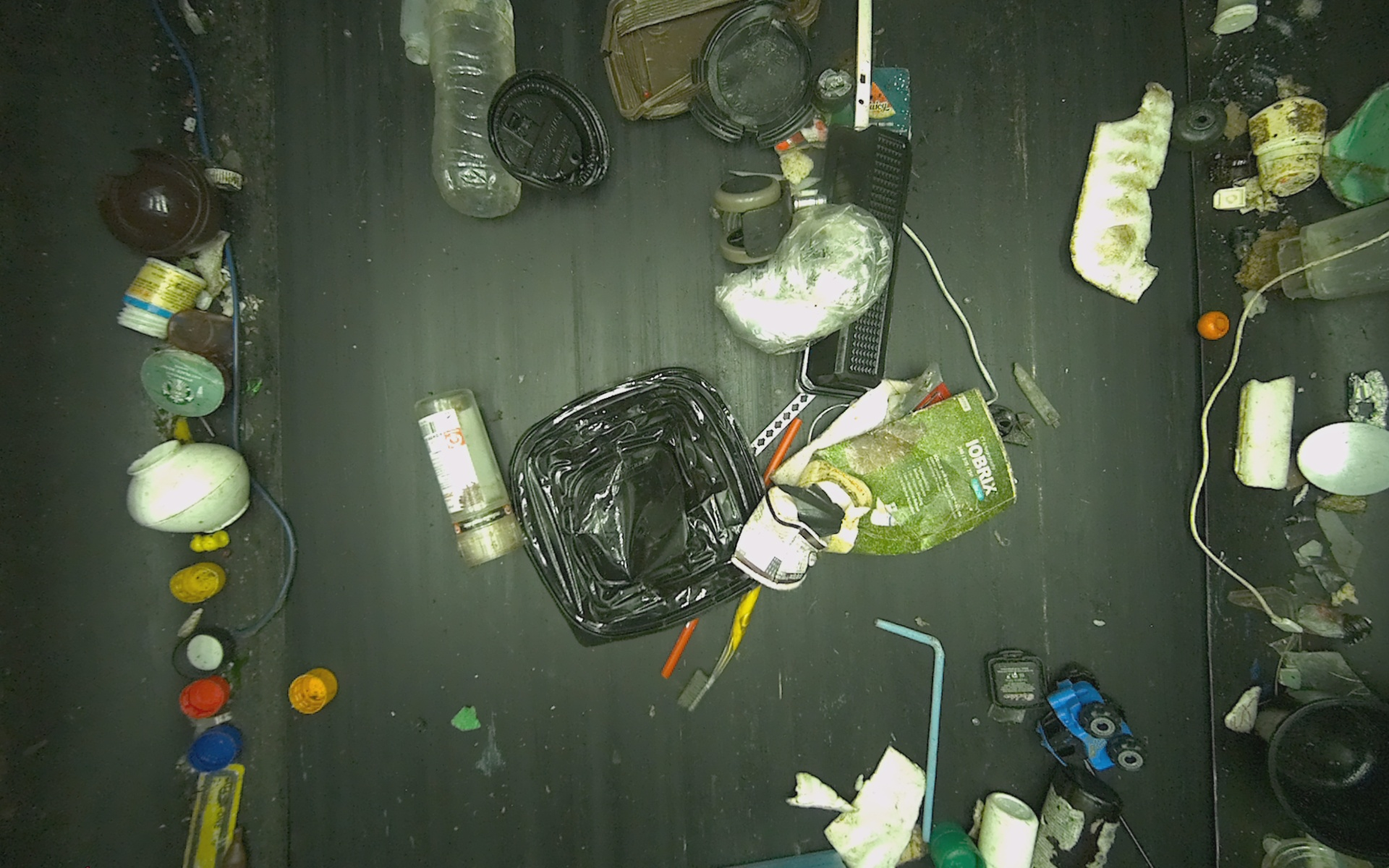PET: (430, 0, 522, 217)
PET-C: (508, 367, 766, 647)
